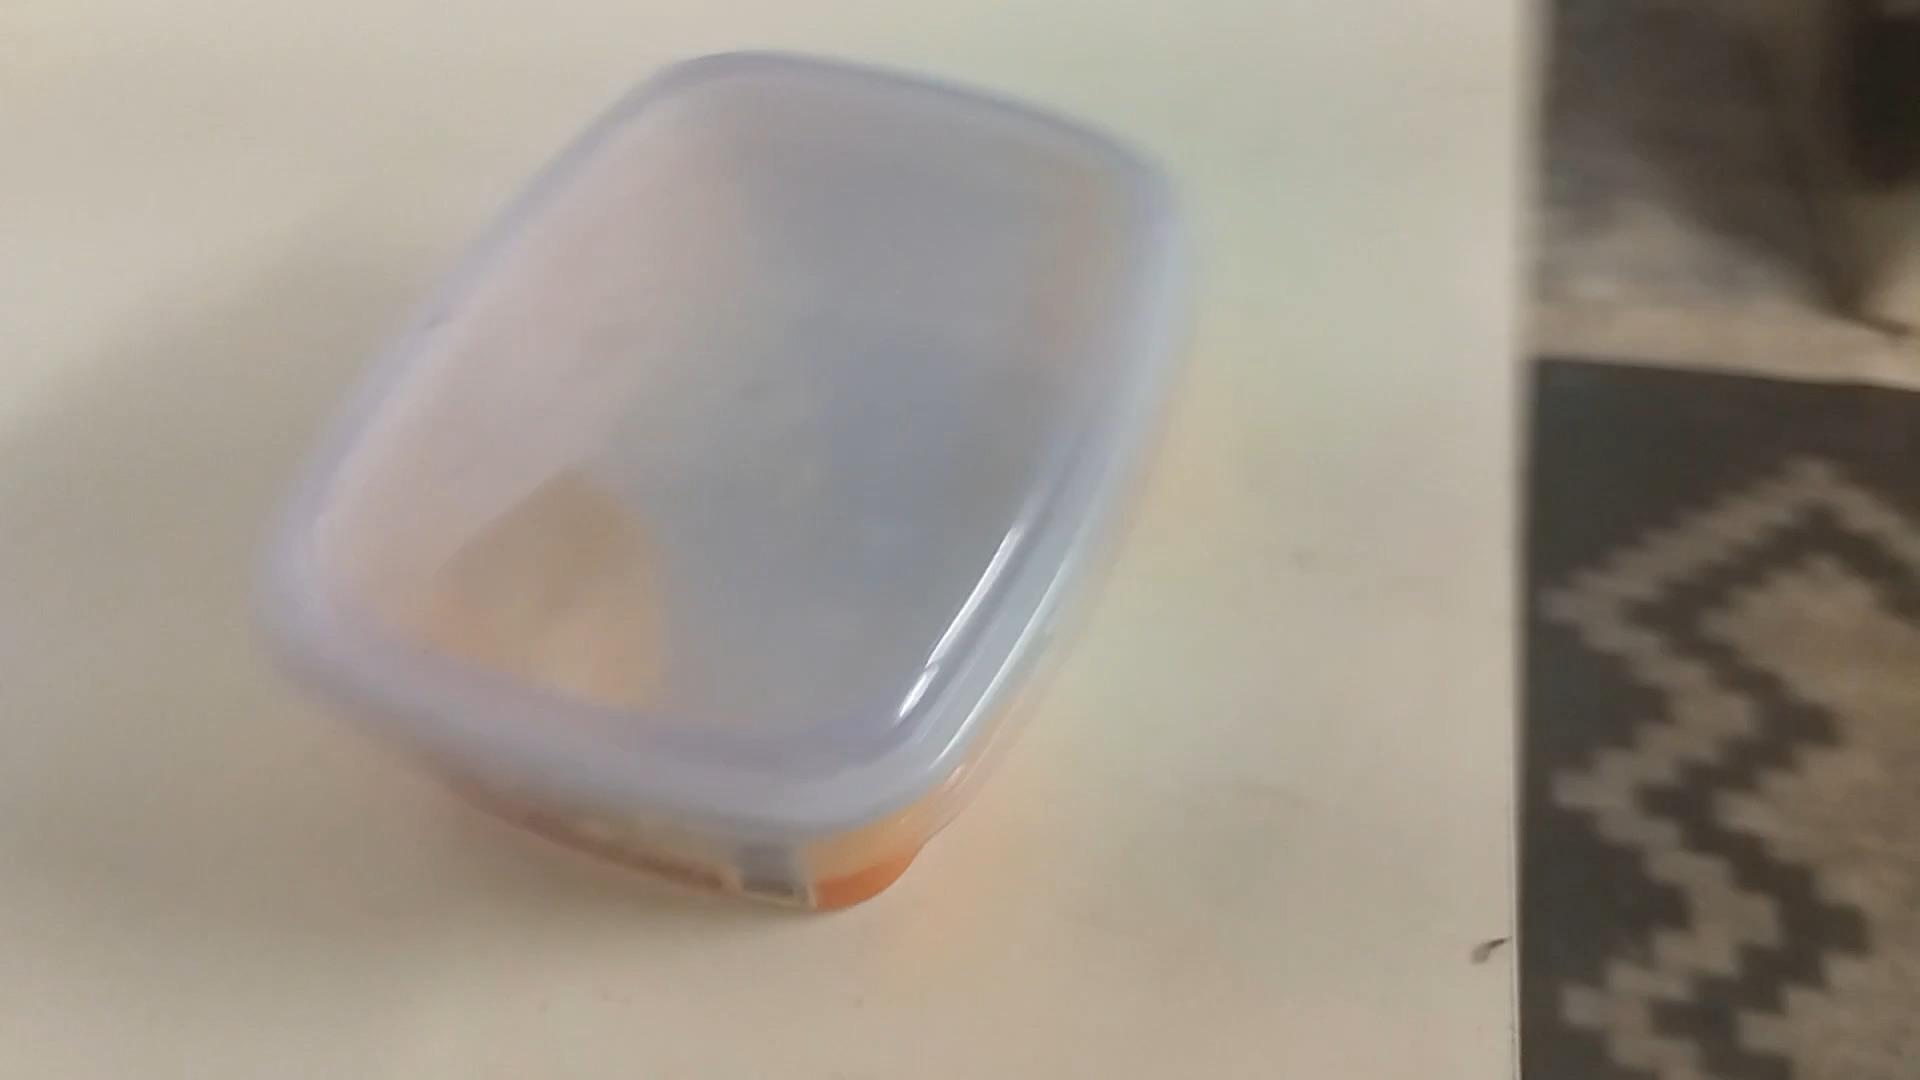butter: (241, 59, 1185, 923)
